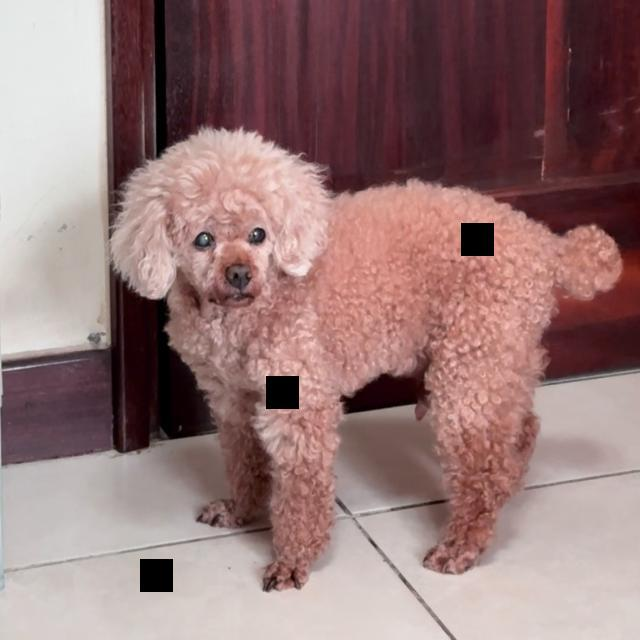adult_dog: (109, 126, 625, 593)
